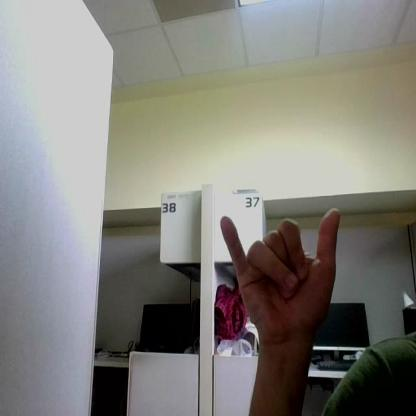Y: (220, 207, 340, 333)
